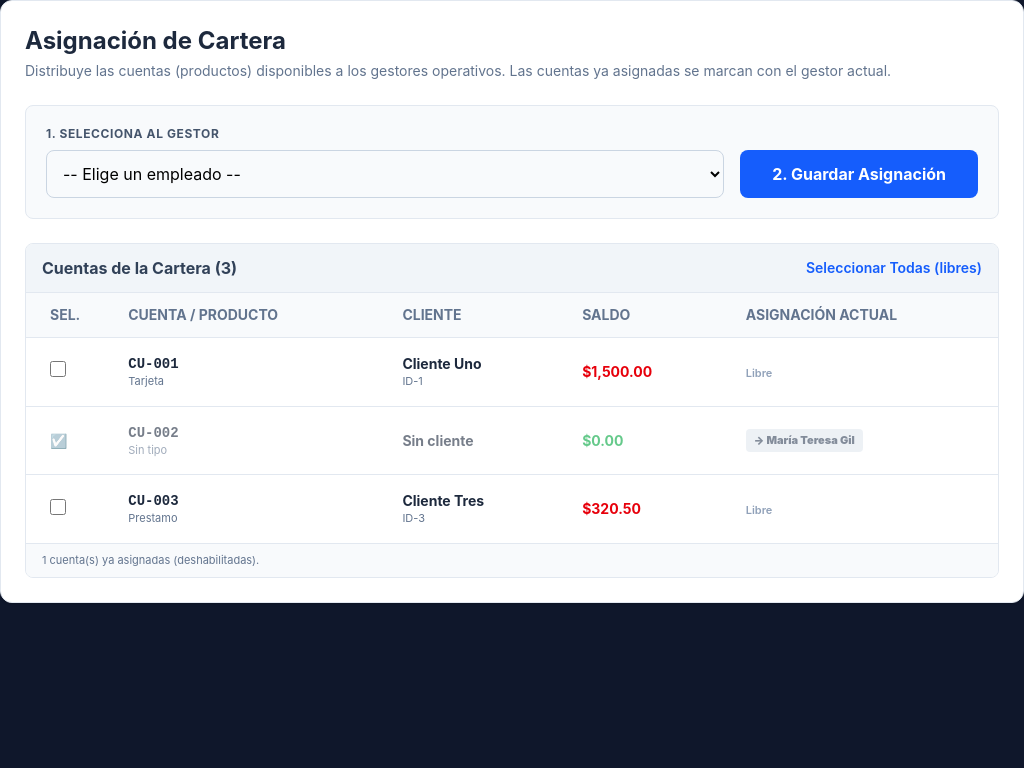
Test case: AsignacionCartera: seleccion › selecciona todas las cuentas libres de una vez
Expected: the text "CU-001" is shown, [128,356,179,372]
Step 1. Click the button "Seleccionar Todas (libres)" → (894, 268), box [806,258,982,278]
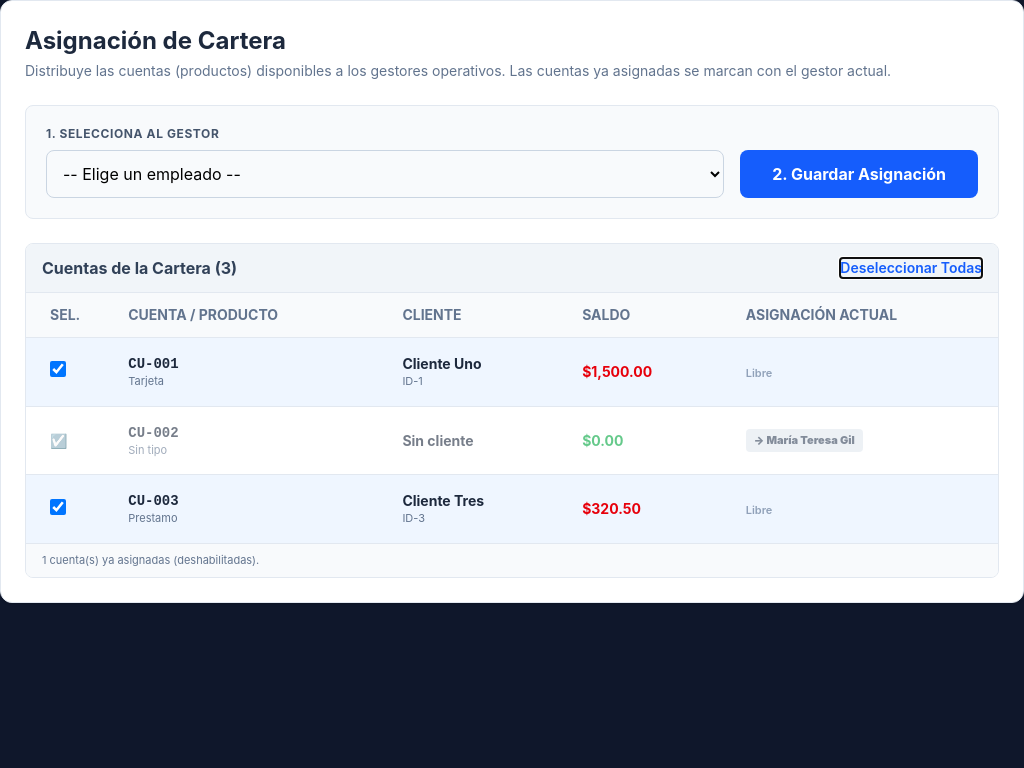
Now the checkbox next to "CU-001" is checked, box [50,361,66,377]
Now the checkbox next to "CU-003" is checked, box [50,499,66,515]
Now the button "Deseleccionar Todas" is shown, box [840,258,982,278]
